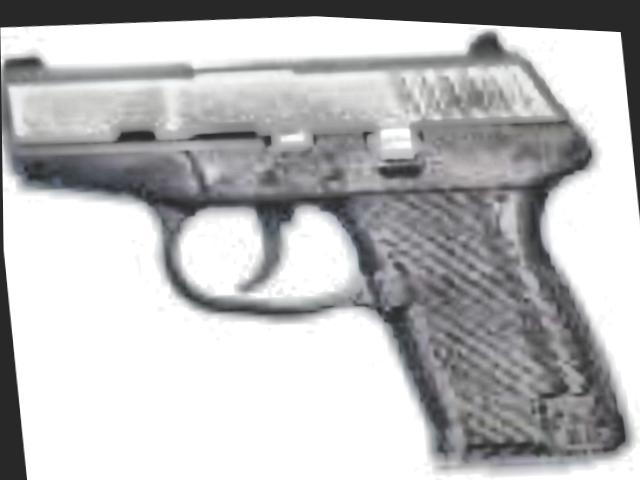pistol: (0, 0, 627, 480)
